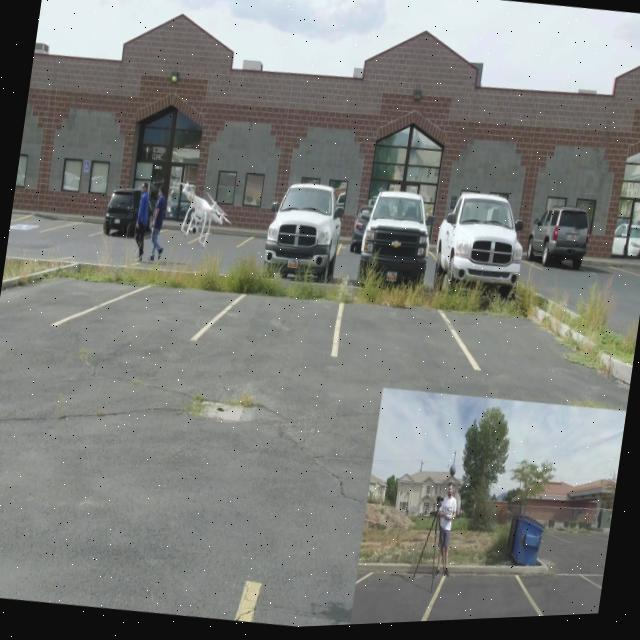drone: (171, 177, 235, 251)
